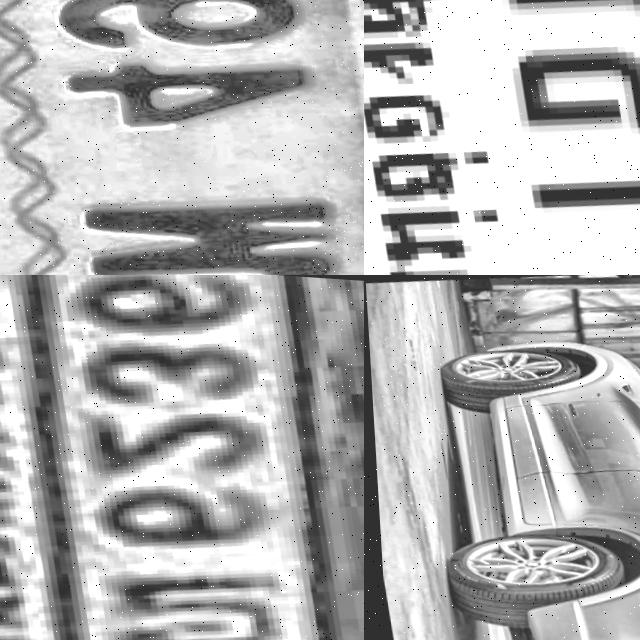license-plate: (0, 275, 364, 640), (0, 0, 364, 275), (364, 0, 640, 275)
